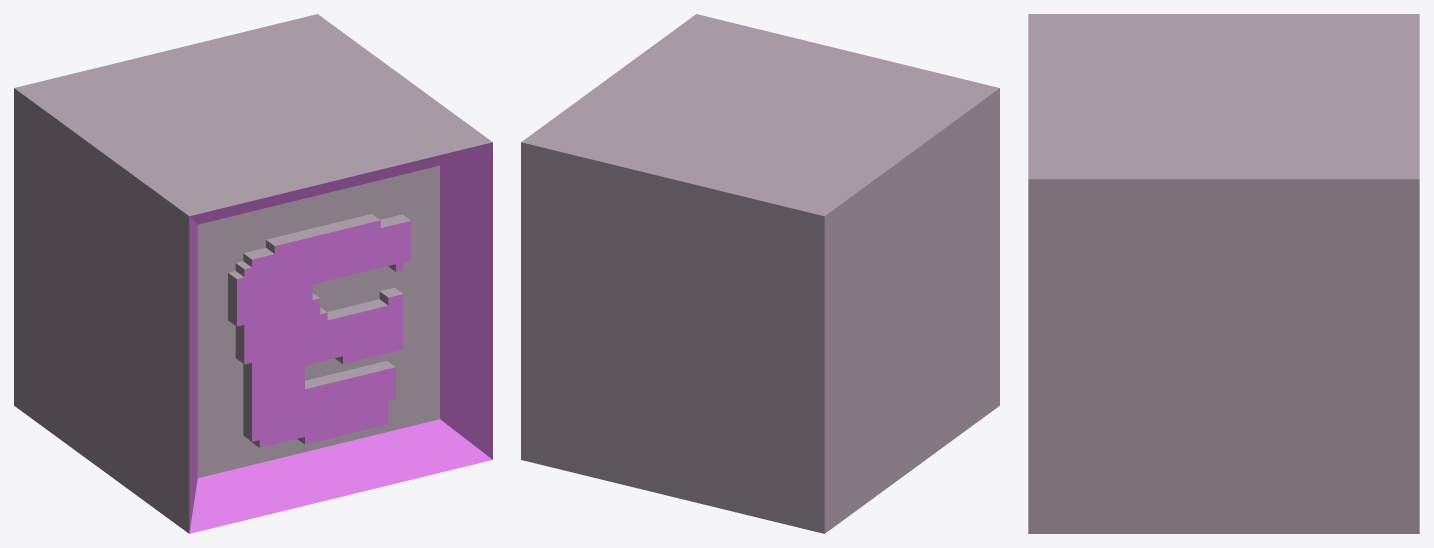
The model's file is BlockP.fbx.
The picture shows the model from 3 angles, left to right: view 1: azimuth 30°, elevation 25°; view 2: azimuth 150°, elevation 25°; view 3: azimuth 270°, elevation 25°; orthographic projection. The views are drawn at different scales.
Parts seen in each view (by area): view 1: Cube; view 2: Cube; view 3: Cube.
Part boxes in pixels (x1,y1,x2,y2): Cube: [14, 14, 492, 533]; Cube: [521, 14, 999, 533]; Cube: [1028, 14, 1419, 533].
Bounding box in the file's own units: 2000 × 2000 × 2000.
